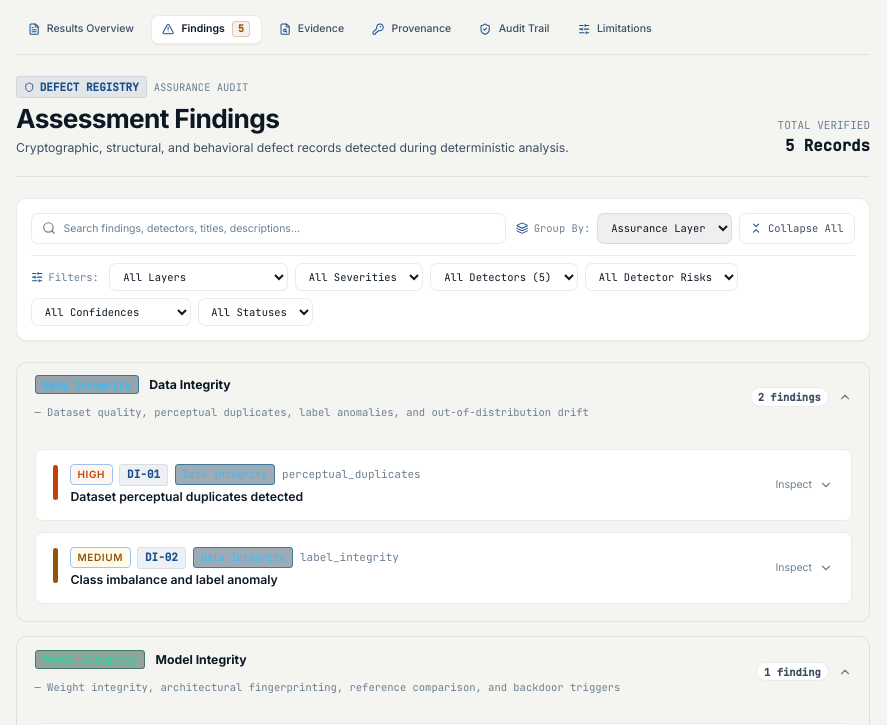
it: Findings Filters and Grouping Component › filters by Correlated Detector Risk
Check: the heading "Assessment Findings" is shown, box [16,103,279,134]
Select "Critical Risk" in the dropdown named "Filter by detector risk" at [662, 277], box [585,263,738,291]
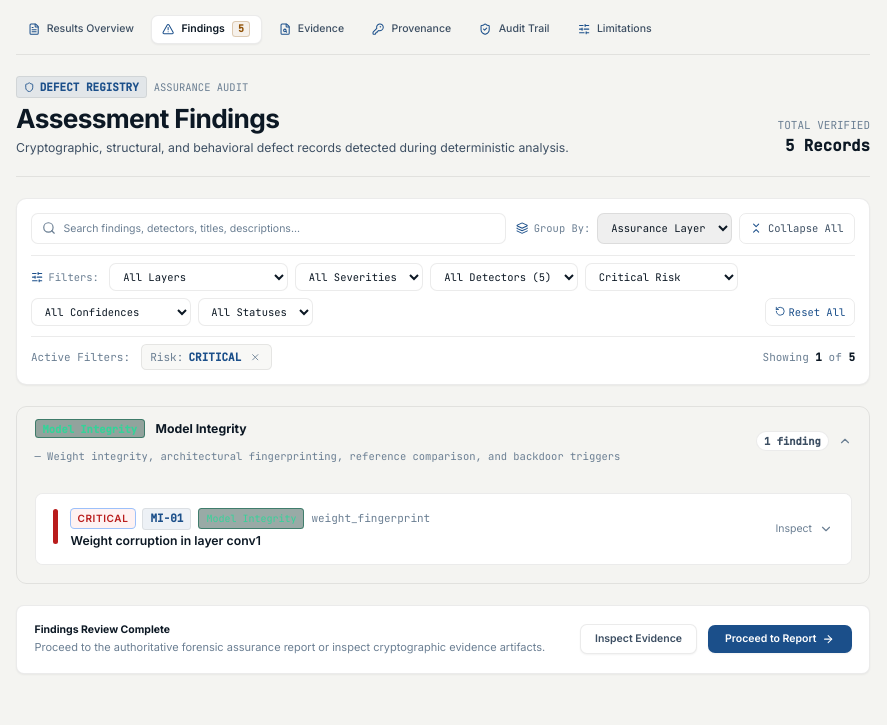
Check: the text "Weight corruption in layer conv1" is shown, box [70,533,261,548]
Check: the button "Dataset perceptual duplicates detected" is gone
